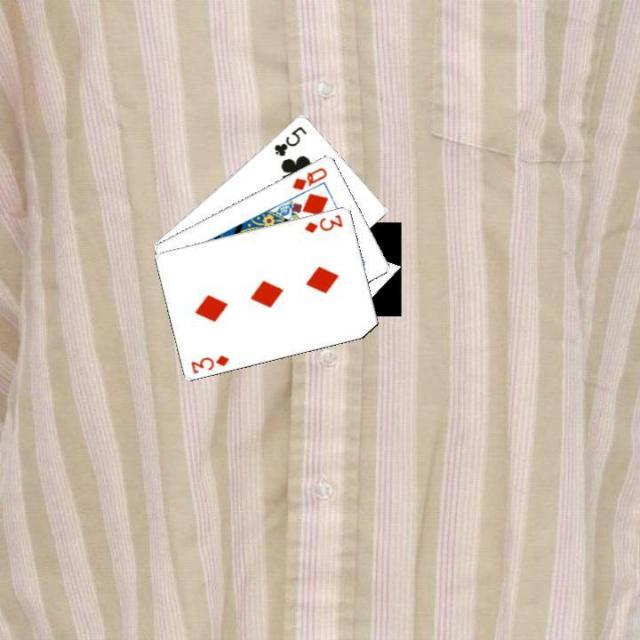3D: (300, 210, 345, 234), (188, 351, 232, 375)
5C: (270, 122, 308, 158)
QD: (288, 162, 329, 192)
